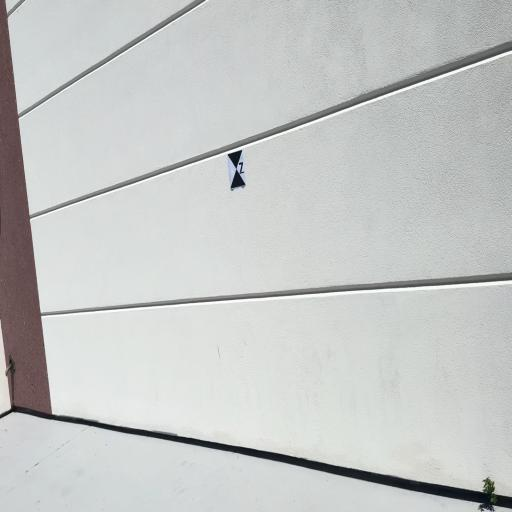target7: (227, 148, 246, 190)
